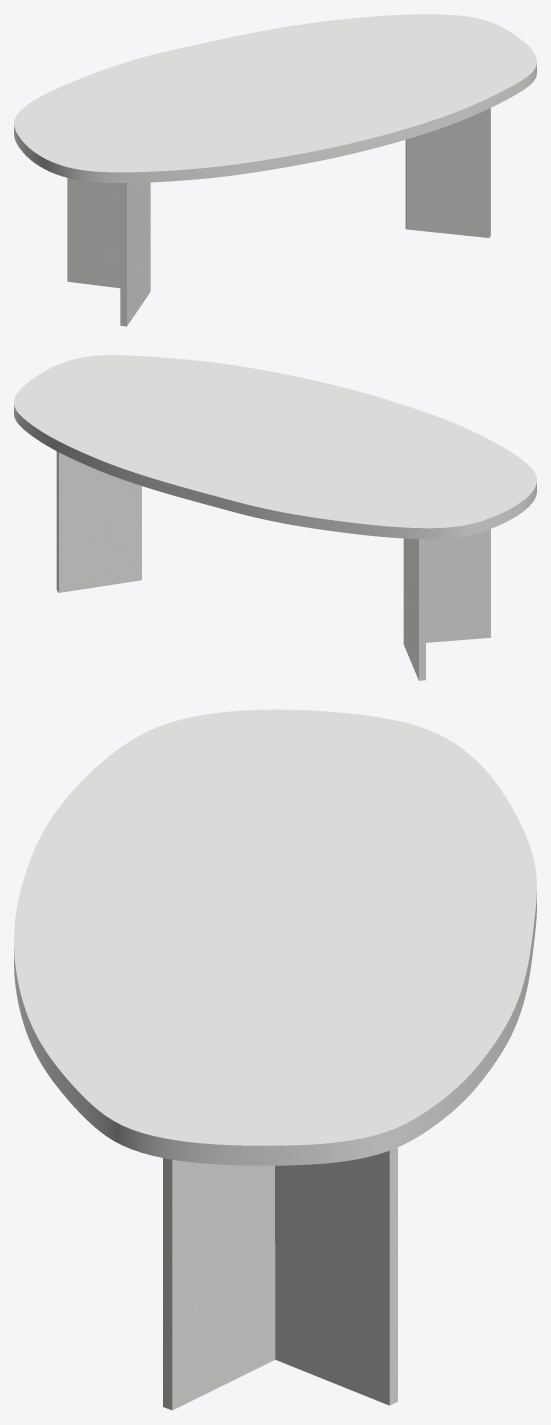
The model's file is purewhite_danish_standard_valleyv.glb.
3 views of the same model, one above another, from view 1: azimuth 30°, elevation 25°; view 2: azimuth 150°, elevation 25°; view 3: azimuth 270°, elevation 25° (orthographic). The views are drawn at different scales.
Visible parts, largest first — view 1: standard_danish, valleyv; view 2: standard_danish, valleyv; view 3: standard_danish, valleyv.
Boxes of the visible parts, bbox=[...] form: standard_danish: bbox=[14, 14, 536, 182]; valleyv: bbox=[67, 108, 490, 326]; standard_danish: bbox=[14, 355, 536, 539]; valleyv: bbox=[56, 451, 490, 680]; standard_danish: bbox=[14, 709, 536, 1165]; valleyv: bbox=[163, 1147, 397, 1410].
Bounding box in the file's own units: 7.5 × 2.5 × 3.8.
Materials: 1 (1 with a texture image).
